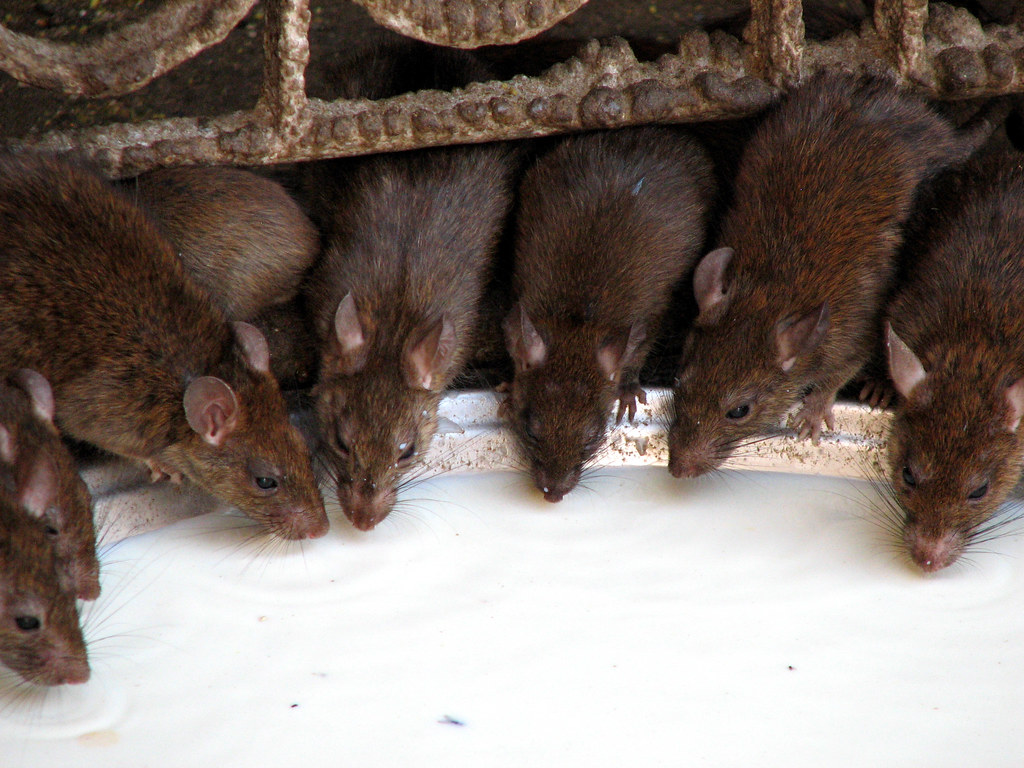rat: (41, 211, 341, 570), (646, 181, 877, 501), (481, 168, 667, 519), (857, 208, 1024, 596), (289, 216, 474, 550), (1, 495, 113, 721)
